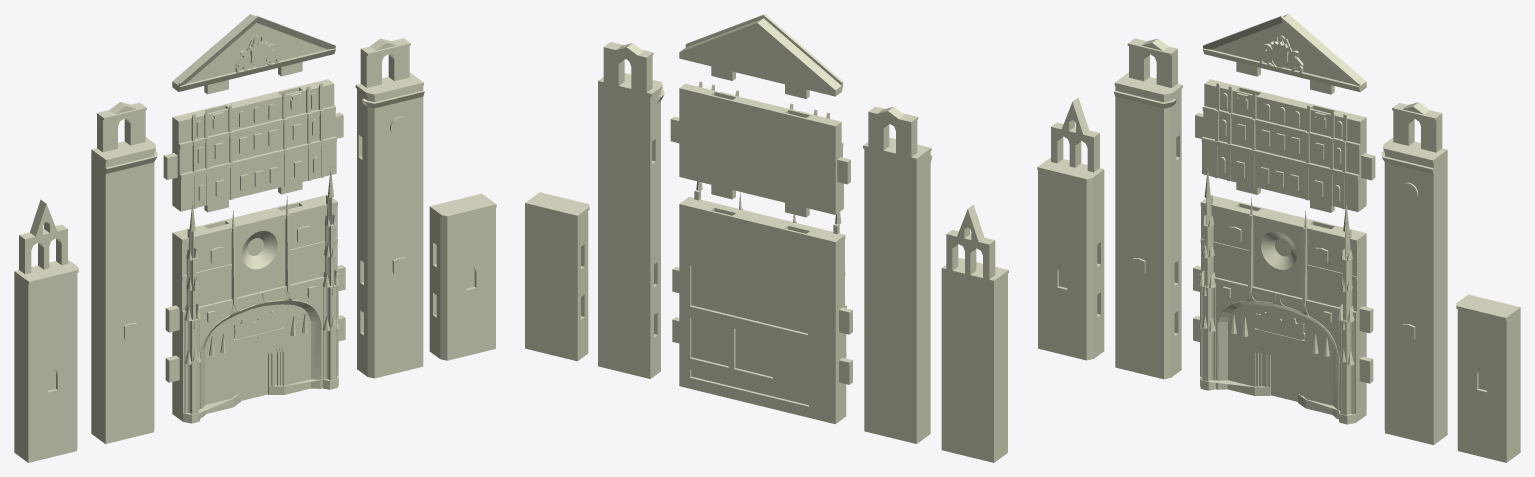
Rendered from San Pablo.fbx.
3 renders of one model, left to right at view 1: azimuth 30°, elevation 25°; view 2: azimuth 150°, elevation 25°; view 3: azimuth 330°, elevation 25°, orthographic.
Visible parts, largest first — view 1: Model, Group2, Group1; view 2: Model, Group2, Group1; view 3: Model, Group2, Group1.
Boxes of the visible parts, x1,y1,x2,y2 form: Model: (14, 38, 496, 462); Group2: (163, 79, 343, 212); Group1: (172, 14, 335, 94); Model: (525, 42, 1008, 462); Group2: (670, 81, 850, 217); Group1: (679, 14, 843, 98); Model: (1037, 38, 1520, 462); Group2: (1195, 79, 1375, 212); Group1: (1202, 14, 1366, 94).
Bounding box in the file's own units: 433 × 340 × 25.18.
